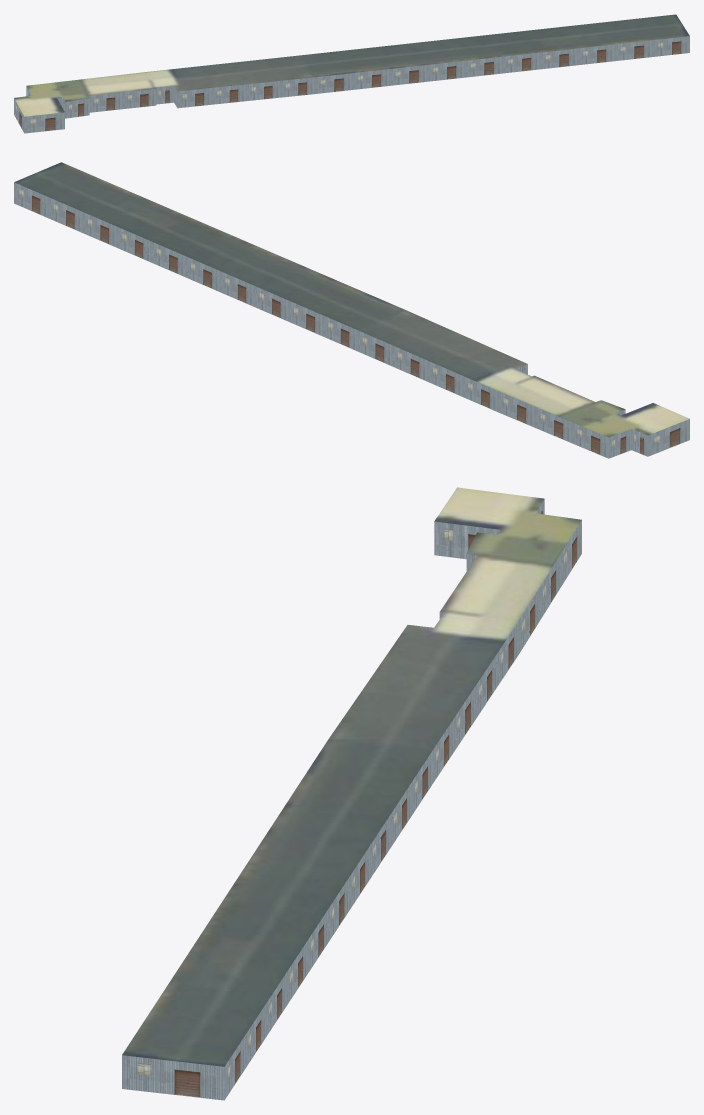
The model's file is T_1T4BE4NVV2.dae.
3 views of the same model, one above another, from view 1: azimuth 30°, elevation 25°; view 2: azimuth 150°, elevation 25°; view 3: azimuth 270°, elevation 25° (orthographic). The views are drawn at different scales.
Visible parts, largest first — view 1: SketchUp (×2); view 2: SketchUp (×2); view 3: SketchUp (×2).
Part boxes in pixels (x1,y1,x2,y2): SketchUp (×2): (14,14,689,133); SketchUp (×2): (14,162,689,458); SketchUp (×2): (122,487,581,1100).
Size of what is drawn, in the model's own units: 4788 by 1607 by 130.
2 materials, 2 textured.
